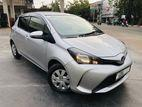car: (9, 9, 133, 97)
